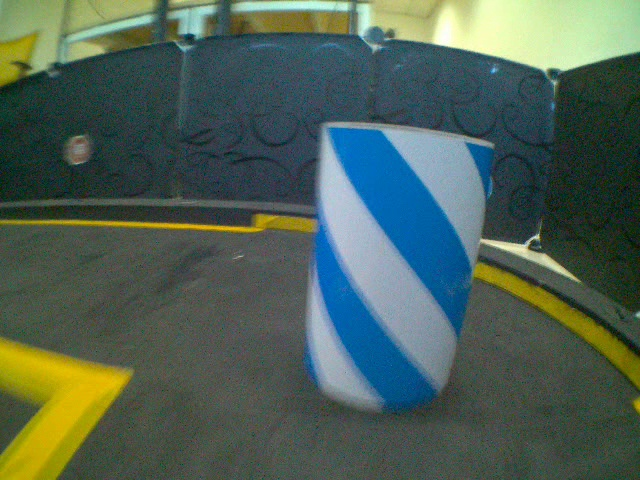bucket: (294, 122, 511, 417)
